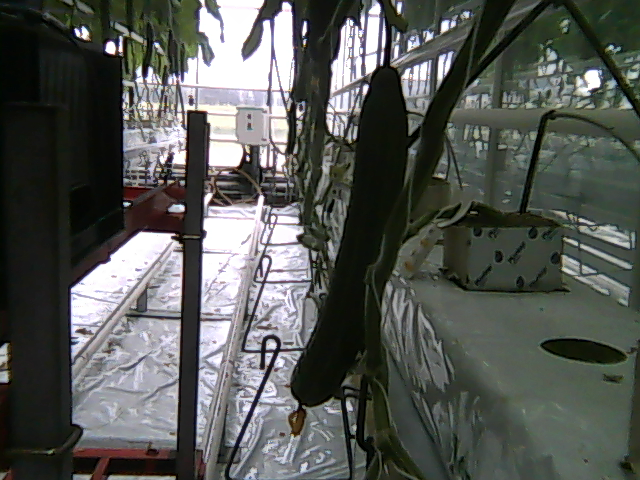concombre: (285, 46, 413, 436)
